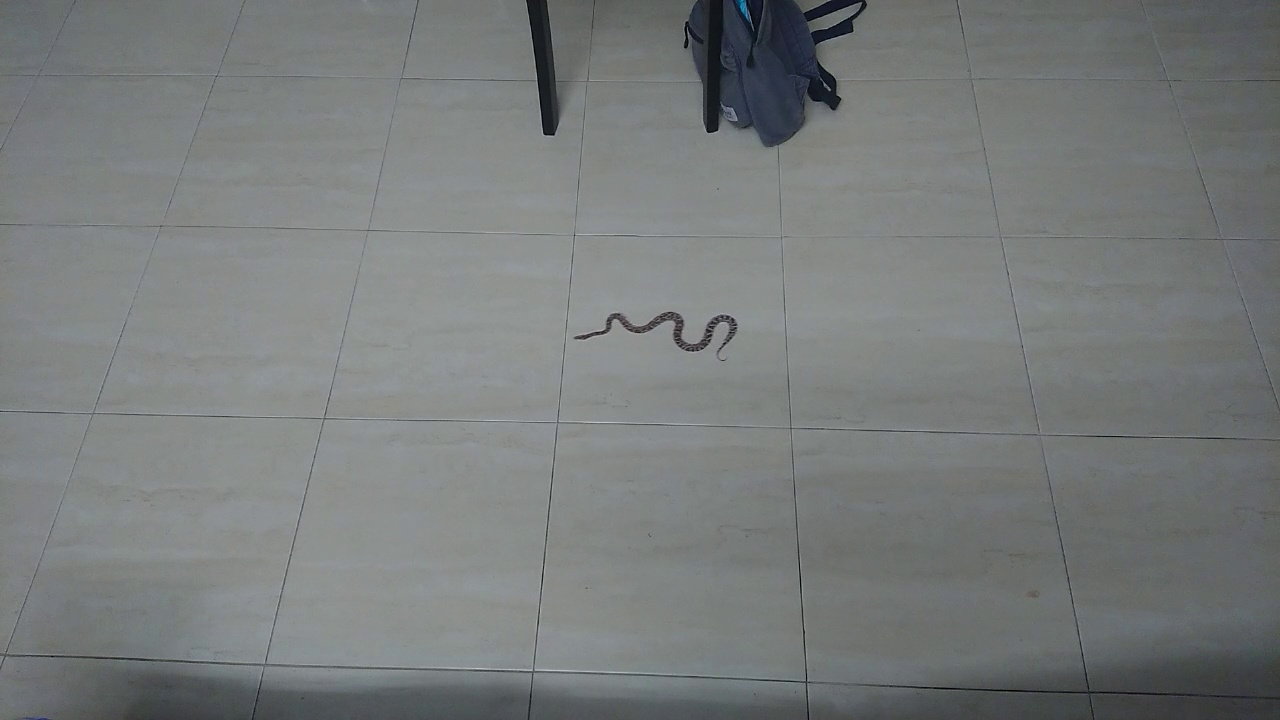snake: (557, 294, 750, 375)
